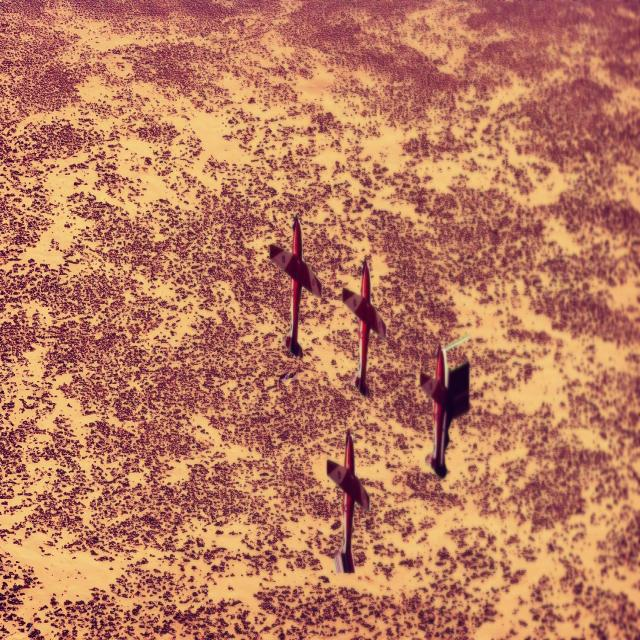airplane: (269, 215, 322, 358), (420, 332, 470, 477), (326, 429, 370, 574), (342, 258, 386, 396)
